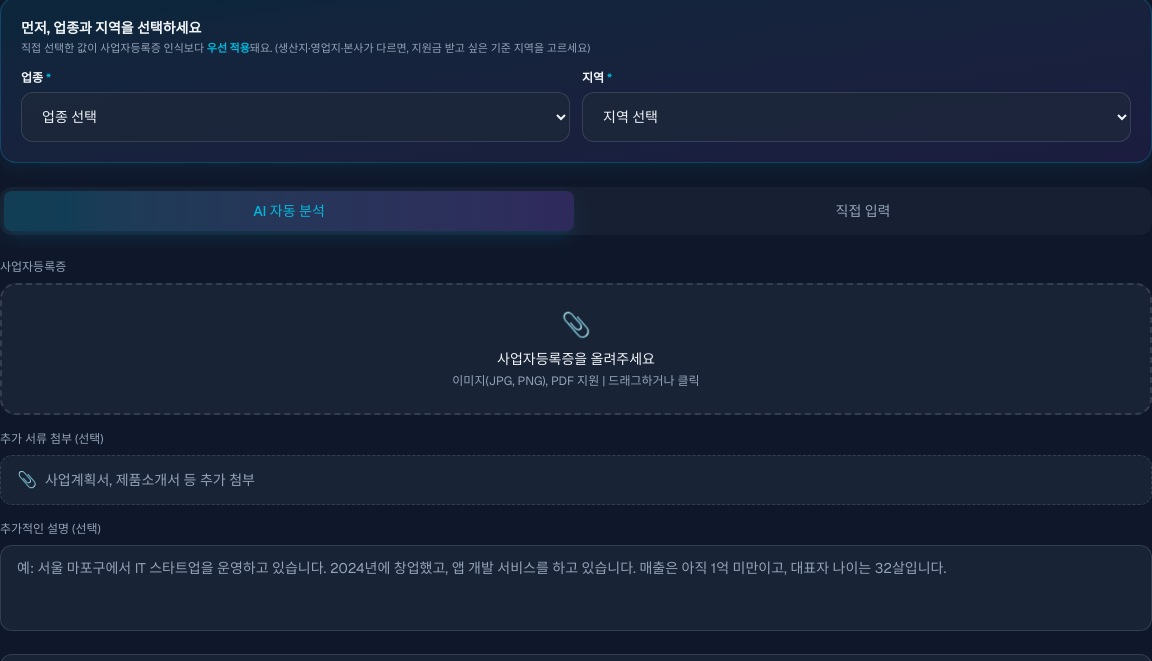
ConditionForm: AI 분석 fetch › 분석 성공 시 AI 추출값이 매칭 폼에 자동 반영
This screenshot has width=1152, height=661.
Replace the text in the text box with placeholder "서울 마포구에서 IT 스타트업" with "테스트" at (576, 588), box [0,545,1151,631]
(page scrolled)
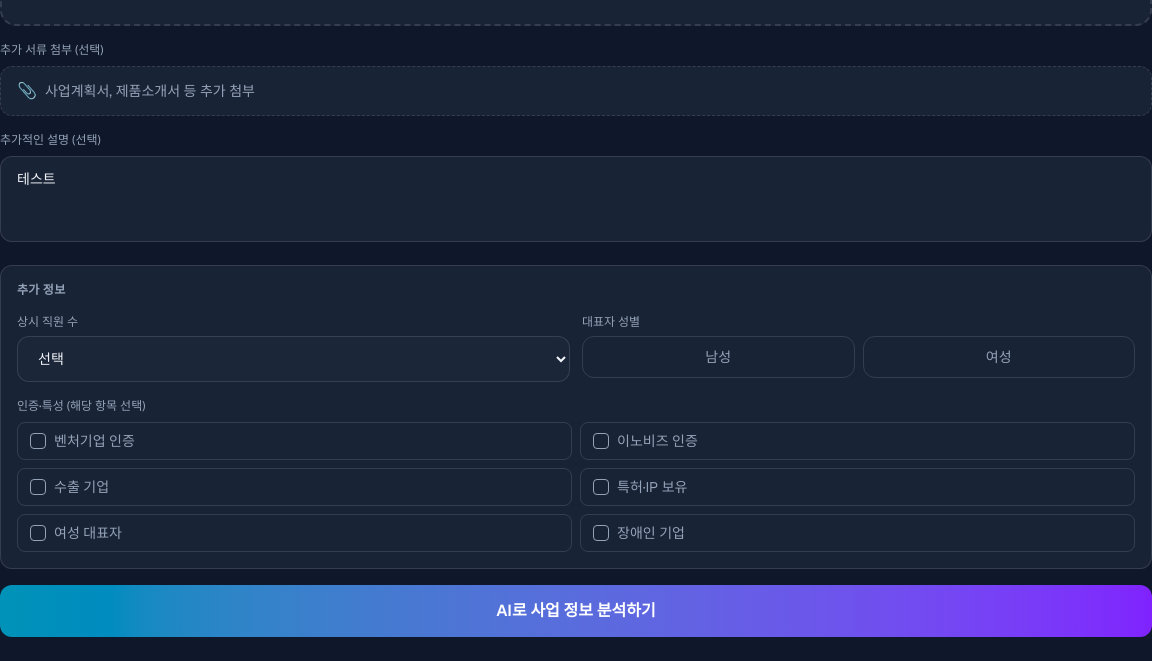
Click the button "AI로 사업 정보 분석하기" at (576, 611), box [0,585,1151,637]
(page scrolled)
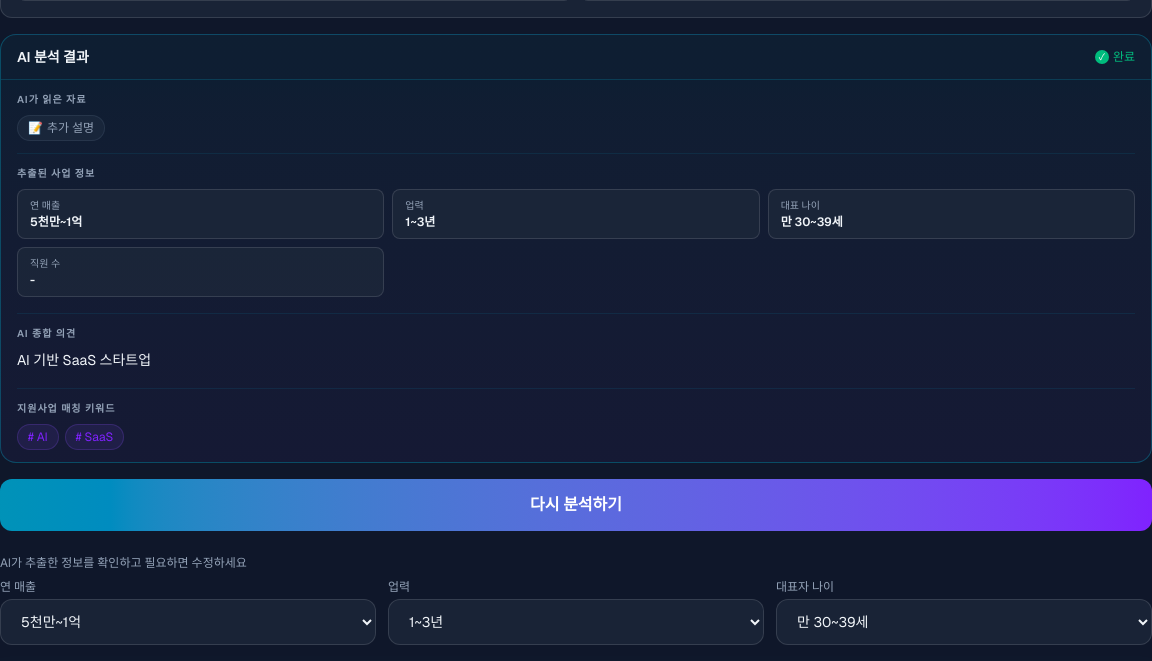
Check: the text "AI가 추출한 정보를 확인하고 필요하면 수정하세요" is shown, box [0,555,247,571]
